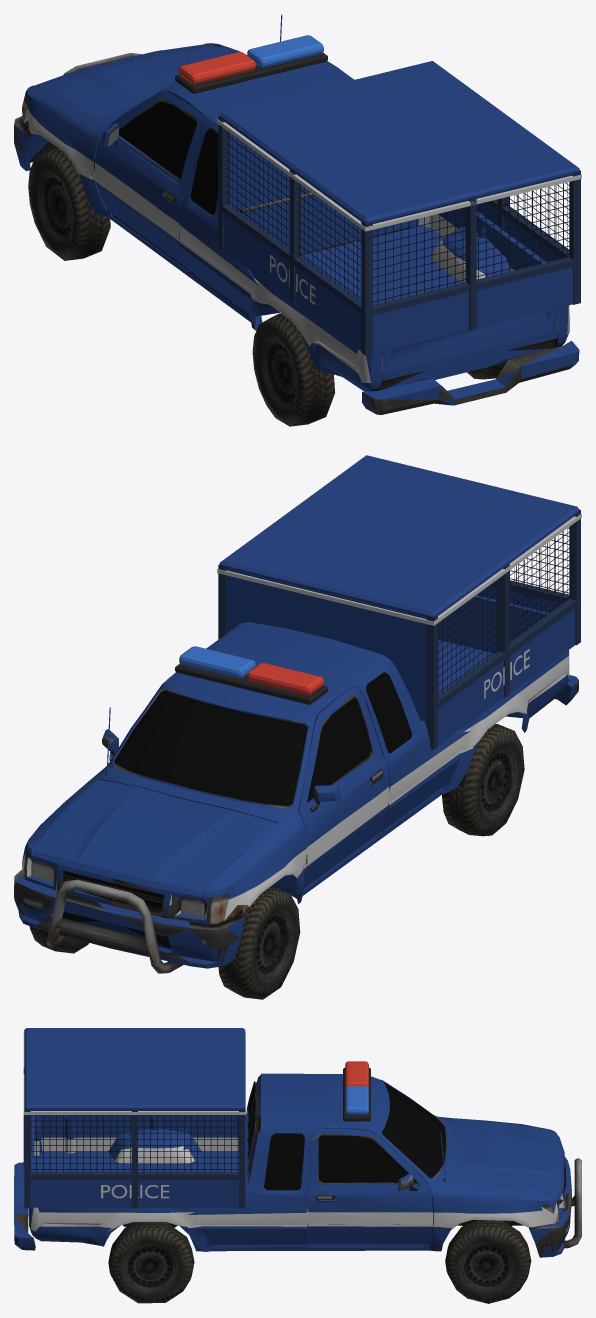
Rendered from police-box.glb.
3 views of the same model, one above another, from view 1: azimuth 30°, elevation 25°; view 2: azimuth 150°, elevation 25°; view 3: azimuth 270°, elevation 25° (orthographic). The views are drawn at different scales.
Visible parts, largest first — view 1: body, cage, wheel_RL, wheel_FL; view 2: body, wheel_RL, wheel_FL, cage; view 3: body, wheel_FR, wheel_RR, cage.
Boxes of the visible parts, x1,y1,x2,y2 form: body: (14,14,581,414); cage: (227,131,570,305); wheel_RL: (252,313,335,426); wheel_FL: (28,147,110,260); body: (14,455,581,973); wheel_RL: (442,724,524,836); wheel_FL: (218,886,300,999); cage: (438,527,571,696); body: (14,1028,581,1257); wheel_FR: (445,1220,531,1303); wheel_RR: (108,1222,194,1303); cage: (30,1115,238,1172).
Size of the model in its own units: 1.91 by 2.05 by 5.29.
Materials: 3 (2 with a texture image).
